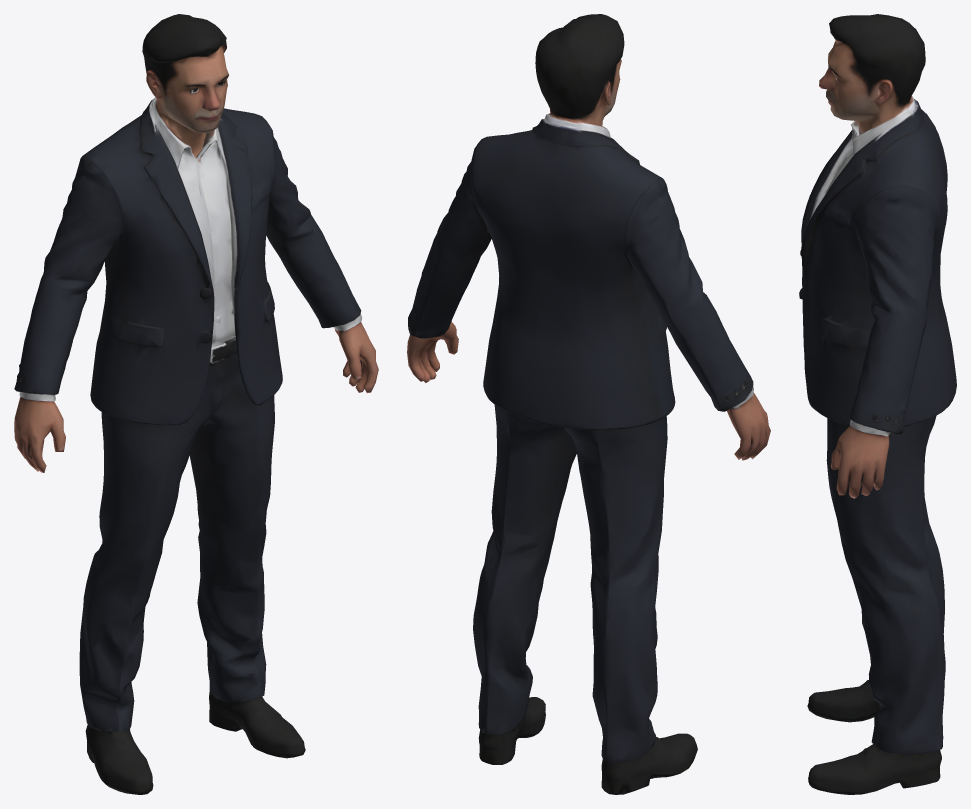
Rendered from npc_suit.glb.
The picture shows the model from 3 angles, left to right: view 1: azimuth 30°, elevation 25°; view 2: azimuth 150°, elevation 25°; view 3: azimuth 270°, elevation 25°; orthographic projection.
Parts seen in each view (by area): view 1: tripo_node_88c79774-369a-4151-be25-a80e237c1e23; view 2: tripo_node_88c79774-369a-4151-be25-a80e237c1e23; view 3: tripo_node_88c79774-369a-4151-be25-a80e237c1e23.
Part boxes in pixels (bbox=[...]): tripo_node_88c79774-369a-4151-be25-a80e237c1e23: bbox=[14, 14, 378, 794]; tripo_node_88c79774-369a-4151-be25-a80e237c1e23: bbox=[407, 14, 770, 794]; tripo_node_88c79774-369a-4151-be25-a80e237c1e23: bbox=[799, 14, 956, 794].
Size of the model in its own units: 0.9294 by 1.85 by 0.361.
Materials: 1 (1 with a texture image).
